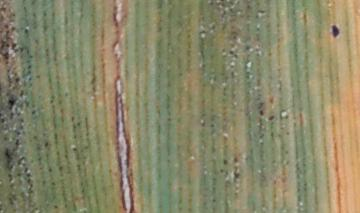tarspot: (329, 22, 340, 40), (232, 164, 241, 179), (6, 97, 16, 110), (265, 114, 276, 122), (71, 144, 79, 154), (43, 140, 50, 148), (258, 108, 264, 117), (23, 27, 29, 35), (222, 158, 228, 166)
